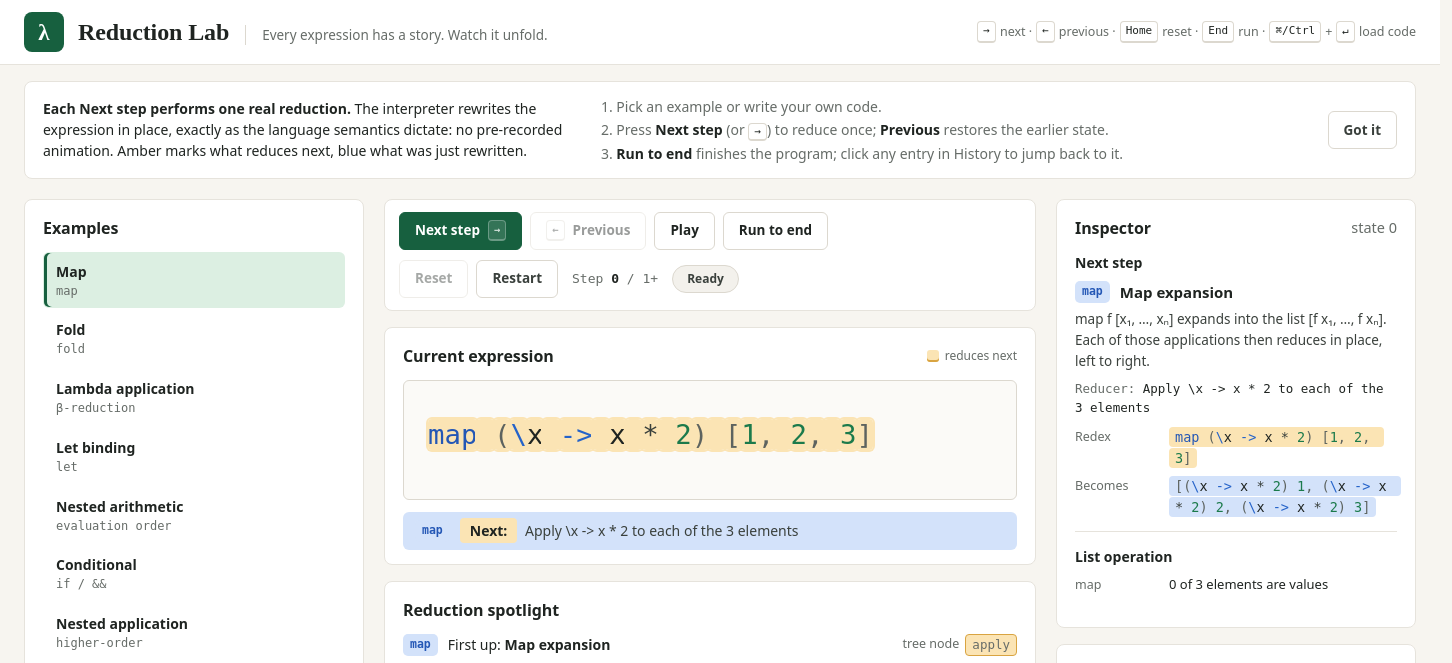
stepping through the real reducer › Run reaches the final value and disables forward controls
Click the button "Run to end". click: x=775, y=230
box: [723, 212, 828, 250]
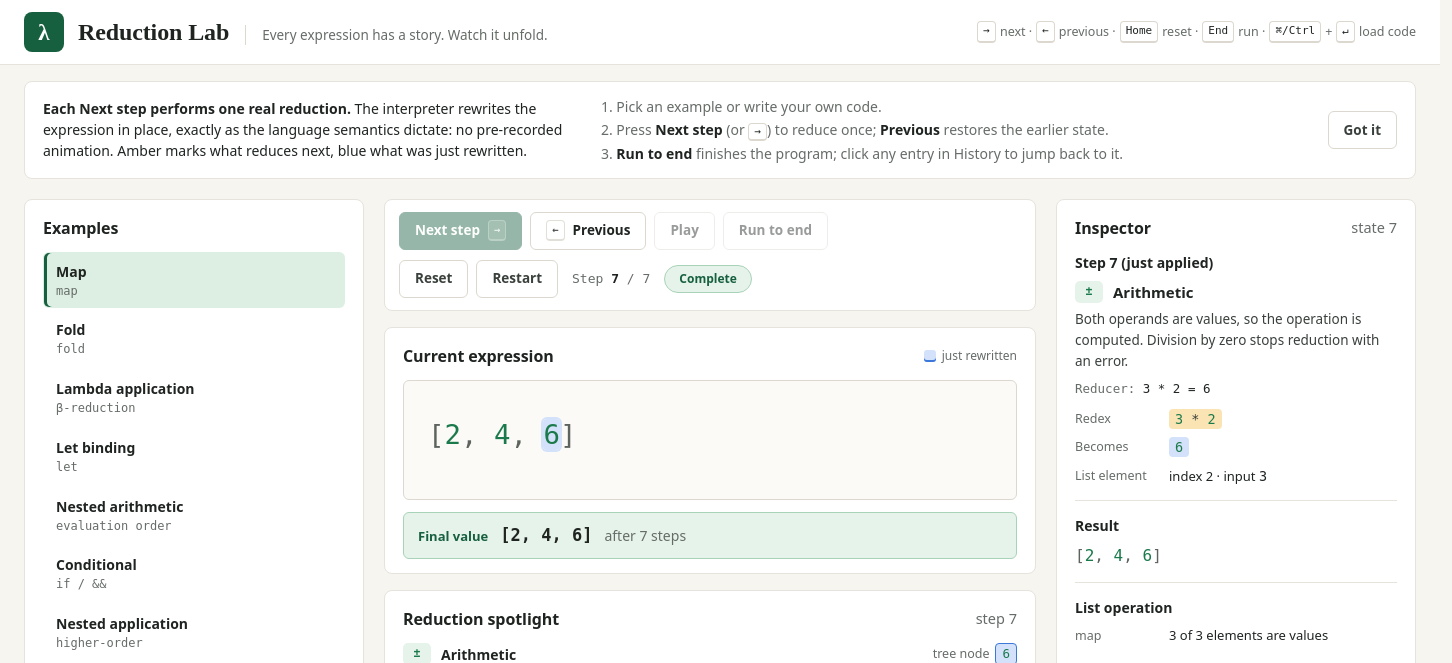
Now the text "Final value" is shown, box [418, 526, 488, 546]
Now the message "Complete" is shown, box [664, 264, 752, 292]
Now the button "Next step →" is disabled, box [399, 212, 522, 250]
